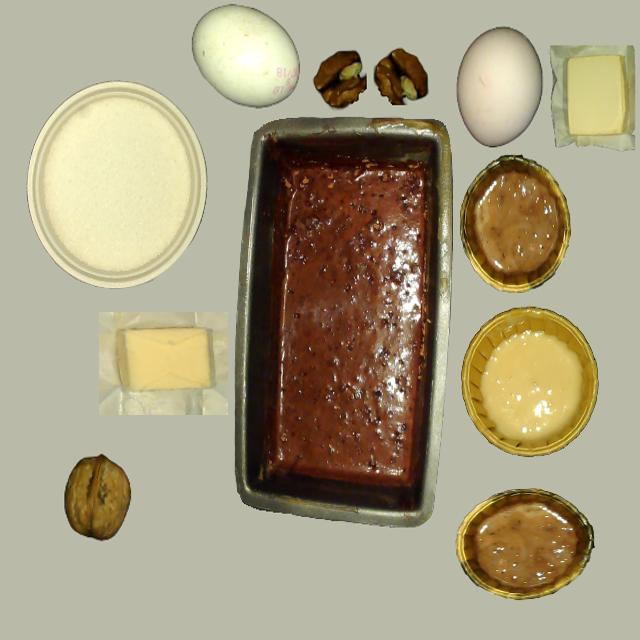Sugar: (41, 92, 191, 278)
Walnut: (64, 454, 130, 540)
